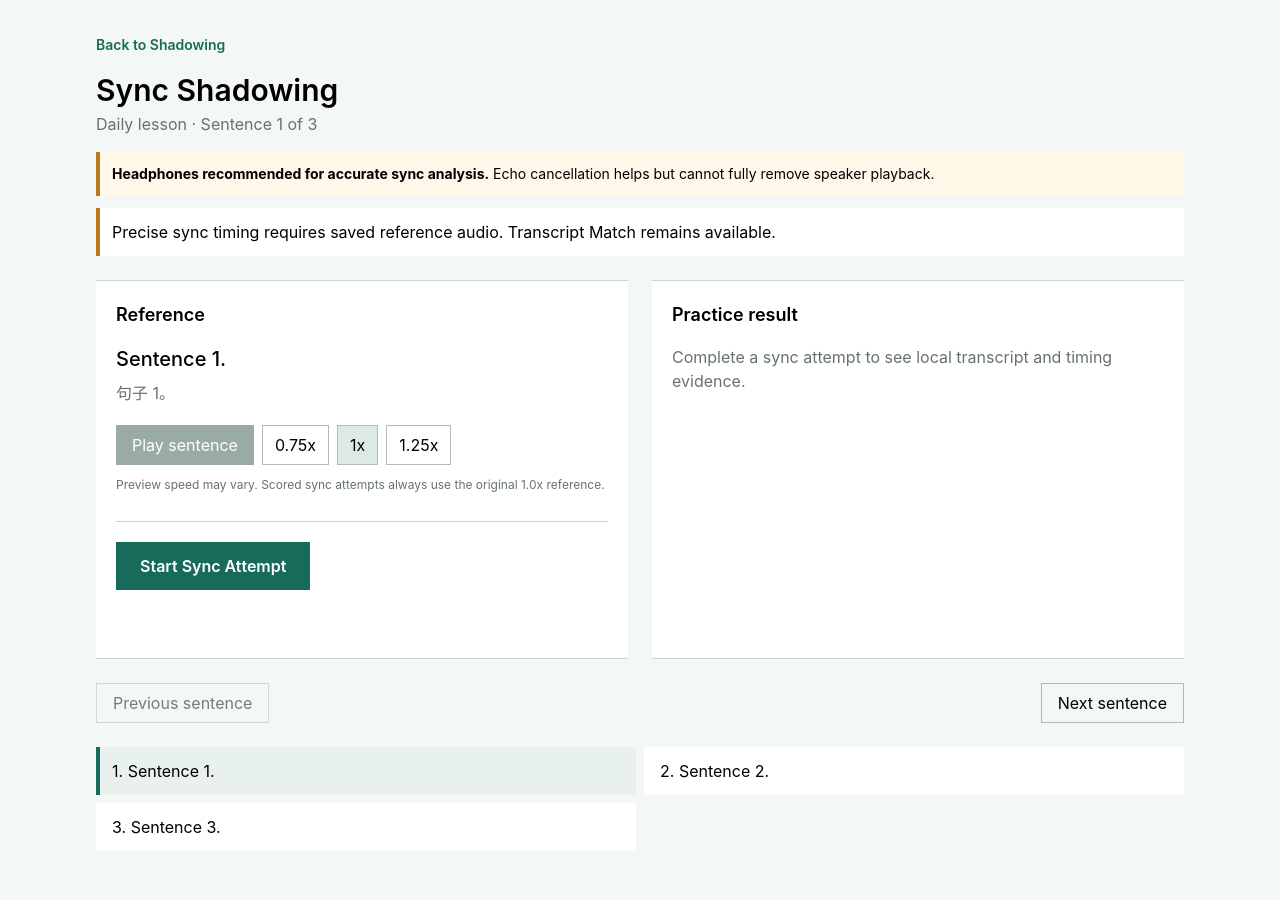
Shadowing Workspace › degrades honestly without saved audio and requests no microphone before explicit action
Expected: the text "Precise sync timing requires saved reference audio. Transcript Match remains available." is shown, [112, 222, 776, 242]
Expected: the button "Play sentence" is disabled, [116, 425, 254, 465]
Click the button "Start Sync Attempt" at (213, 566), box [116, 542, 310, 590]
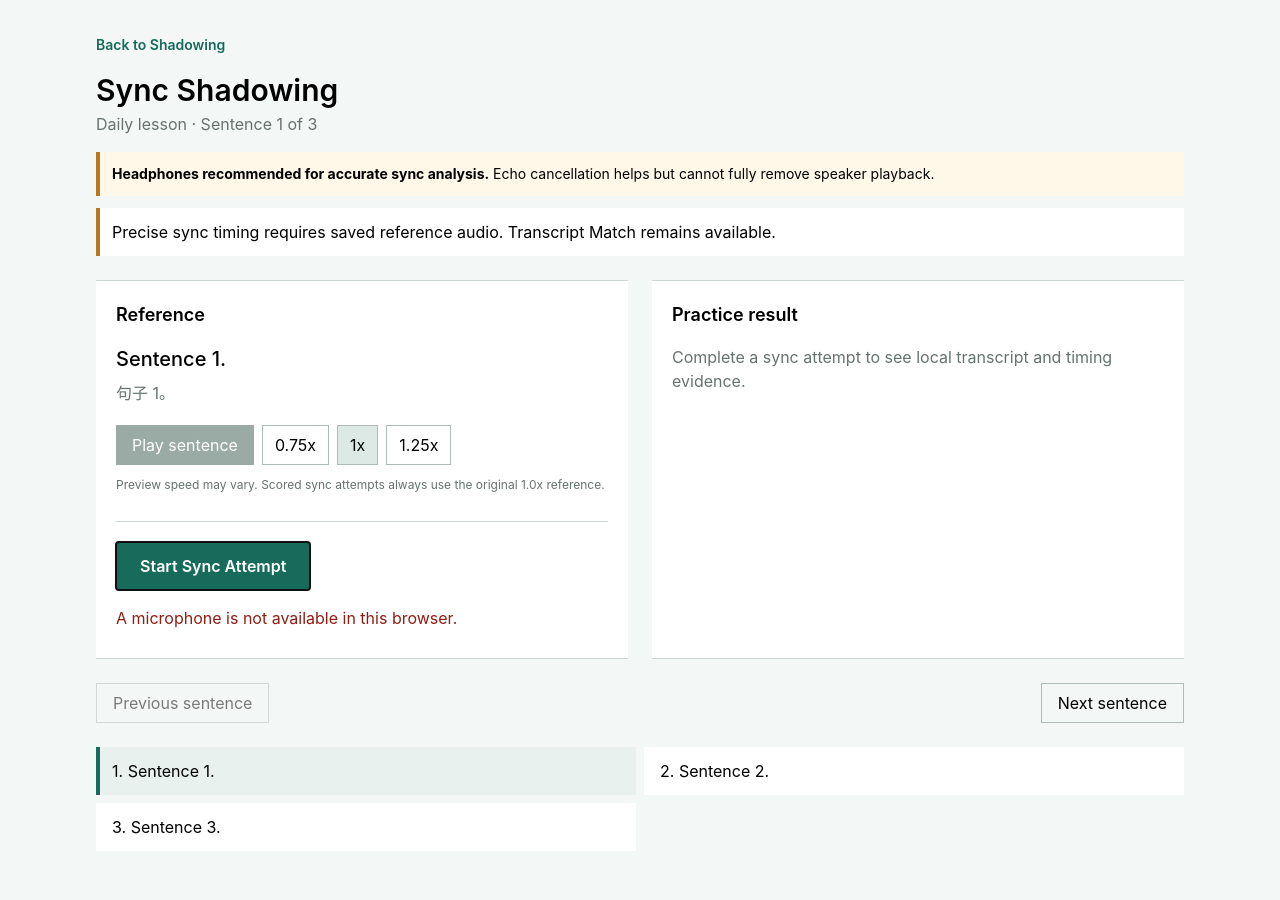
Result: the message "A microphone is not available in this browser." is shown at [116, 608, 457, 628]
